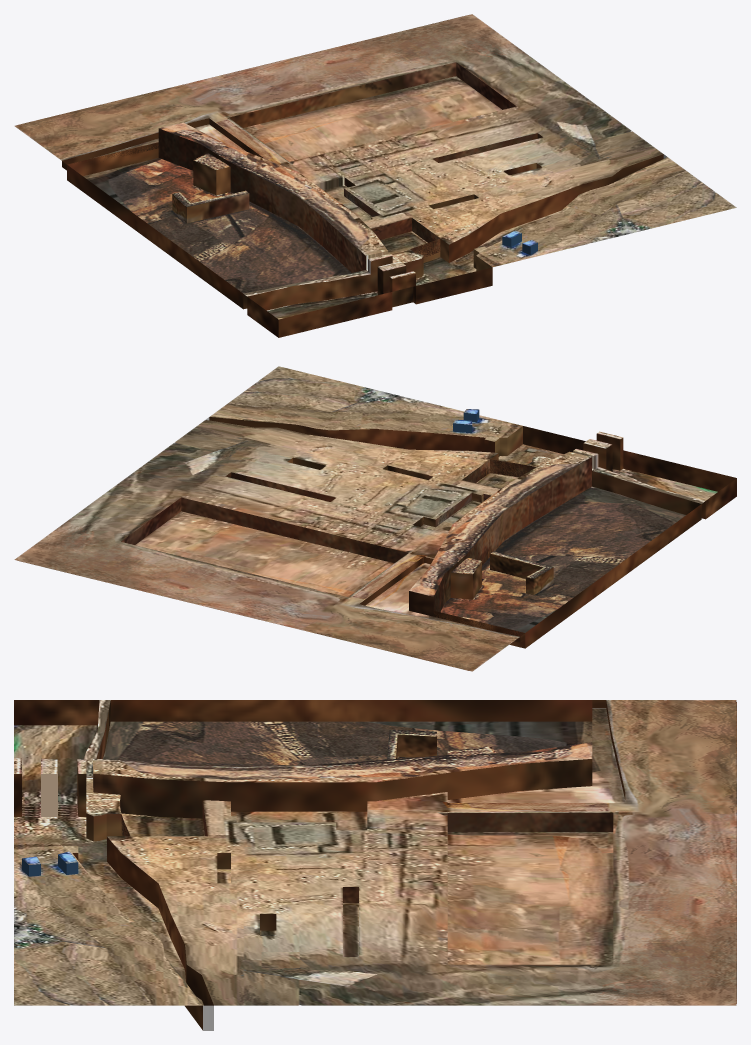
Rendered from hadogamteo_v007.fbx.
The picture shows the model from 3 angles, top to bottom: view 1: azimuth 30°, elevation 25°; view 2: azimuth 150°, elevation 25°; view 3: azimuth 270°, elevation 25°; orthographic projection. The views are drawn at different scales.
Parts seen in each view (by area): view 1: pPlane1; view 2: pPlane1; view 3: pPlane1.
Boxes of the visible parts, <box> form: pPlane1: <box>14,14,736,337</box>; pPlane1: <box>14,366,736,671</box>; pPlane1: <box>14,700,736,1030</box>.
Bounding box in the file's own units: 30.19 × 2.03 × 30.19.
1 material, 1 textured.
